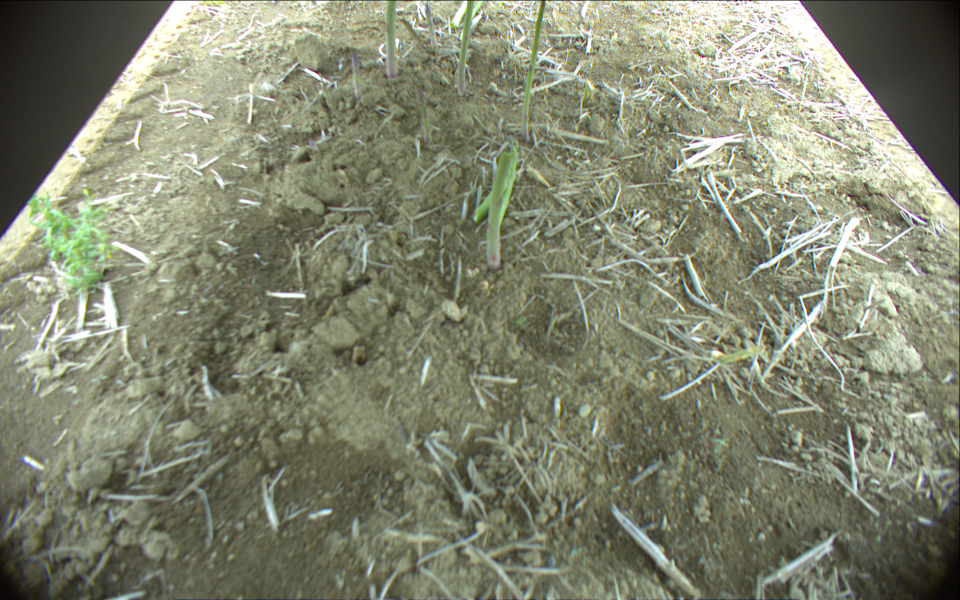aspa: (488, 145, 520, 276), (522, 1, 547, 145), (457, 1, 472, 95), (385, 1, 397, 77), (423, 3, 439, 51), (349, 51, 361, 100), (452, 1, 469, 29)
